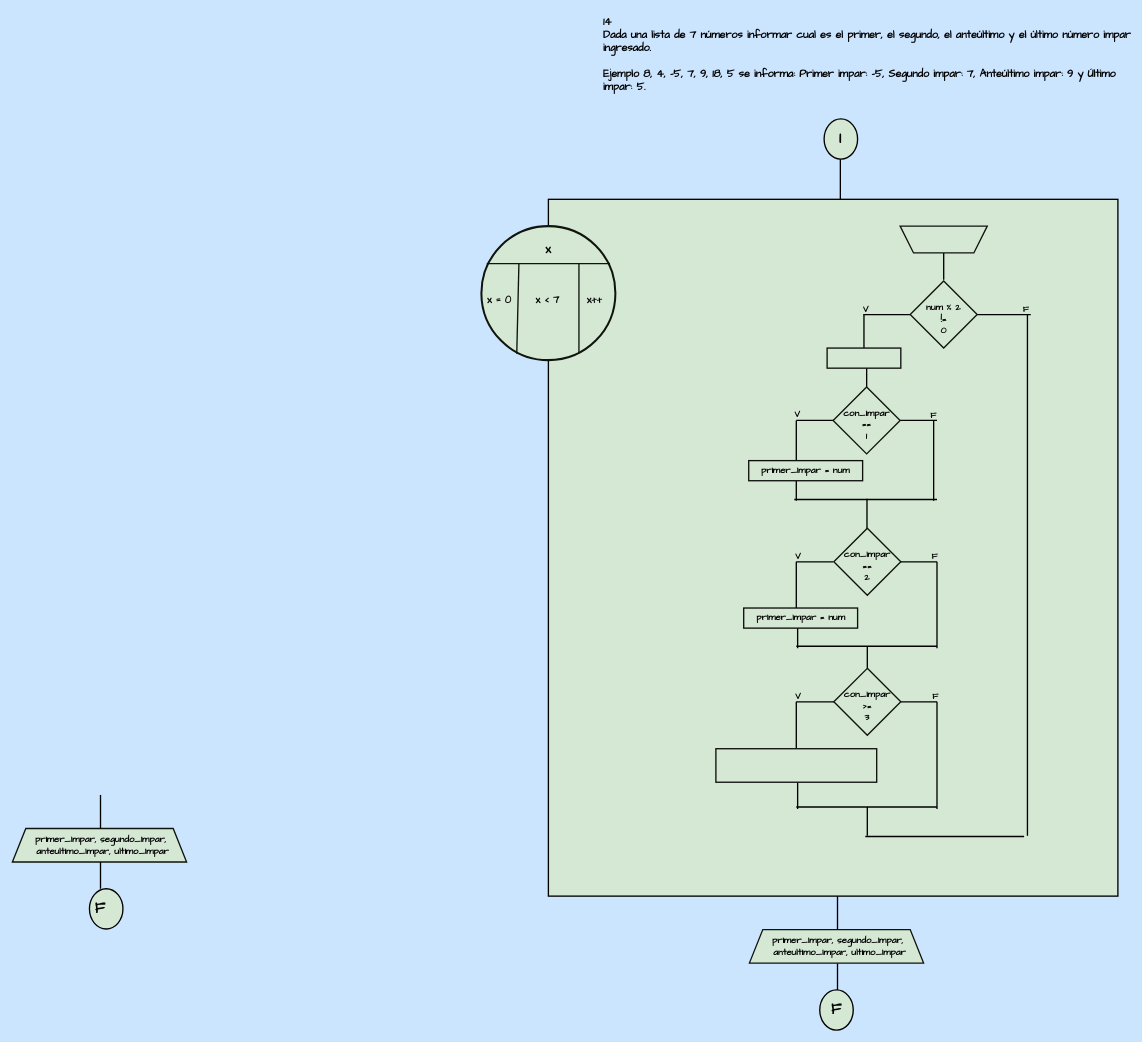
Image size: 1142x1042. Some labels were removed from this diagram. Here are the shapes that lost their labels. From the top down, the box of each, then its label:
(899, 225, 988, 253): num
(826, 347, 901, 368): con_impar++
(715, 748, 877, 783): anteultimo_impar = ultimo_impar ultimo_impar = num
